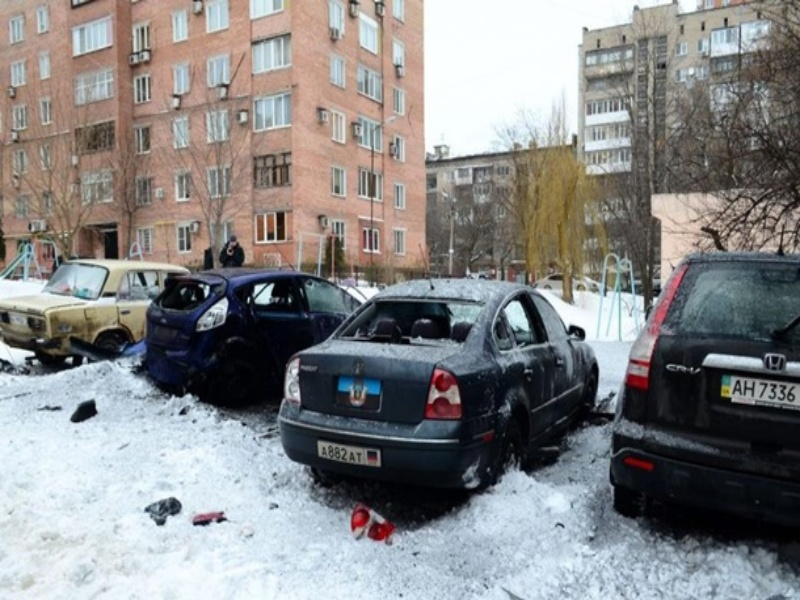car: (278, 278, 601, 499), (611, 253, 800, 519), (146, 271, 362, 404), (1, 258, 191, 366), (537, 272, 596, 292)
person: (219, 235, 245, 268)
plate: (720, 373, 800, 411), (315, 441, 380, 465)
